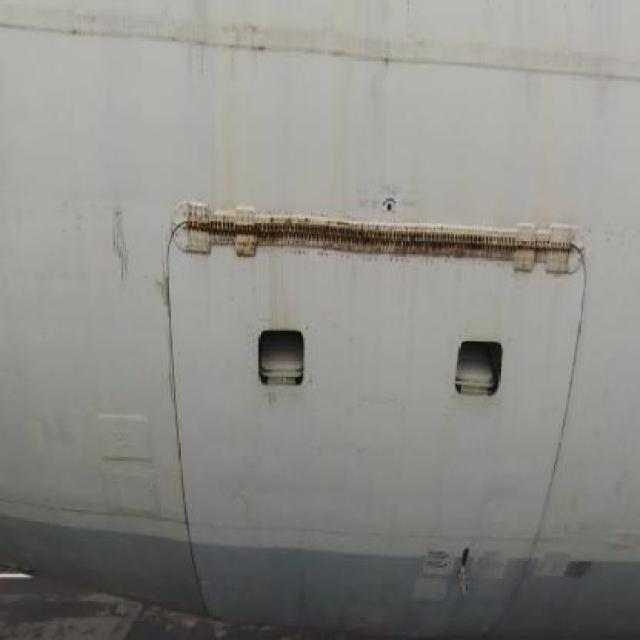Rust: (168, 190, 588, 287), (111, 186, 144, 305)
